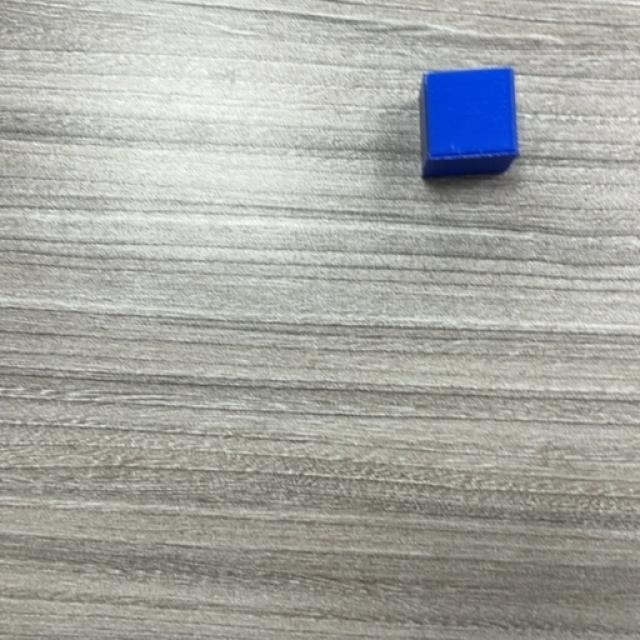Azul: (419, 68, 521, 180)
